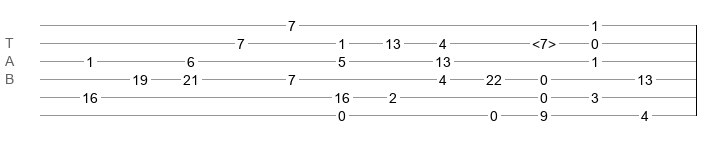0: (338, 108, 346, 118), (490, 108, 498, 118), (540, 72, 548, 82), (540, 90, 548, 100), (591, 36, 599, 46)
1: (86, 54, 94, 64), (338, 36, 346, 46), (591, 18, 599, 28), (591, 54, 599, 64)
13: (385, 36, 401, 46), (435, 54, 451, 64), (637, 72, 653, 82)
16: (82, 90, 98, 100), (334, 90, 350, 100)
19: (132, 72, 148, 82)
2: (389, 90, 397, 100)
21: (183, 72, 199, 82)
22: (486, 72, 502, 82)
3: (591, 90, 599, 100)
4: (439, 36, 447, 46), (439, 72, 447, 82), (641, 108, 649, 118)
5: (338, 54, 346, 64)
6: (187, 54, 195, 64)
7: (237, 36, 245, 46), (288, 72, 296, 82), (288, 18, 296, 28)
9: (540, 108, 548, 118)
harmonic: (532, 36, 556, 46)
